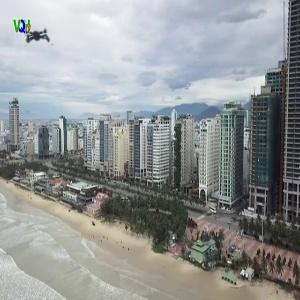drone: (5, 6, 72, 73)
